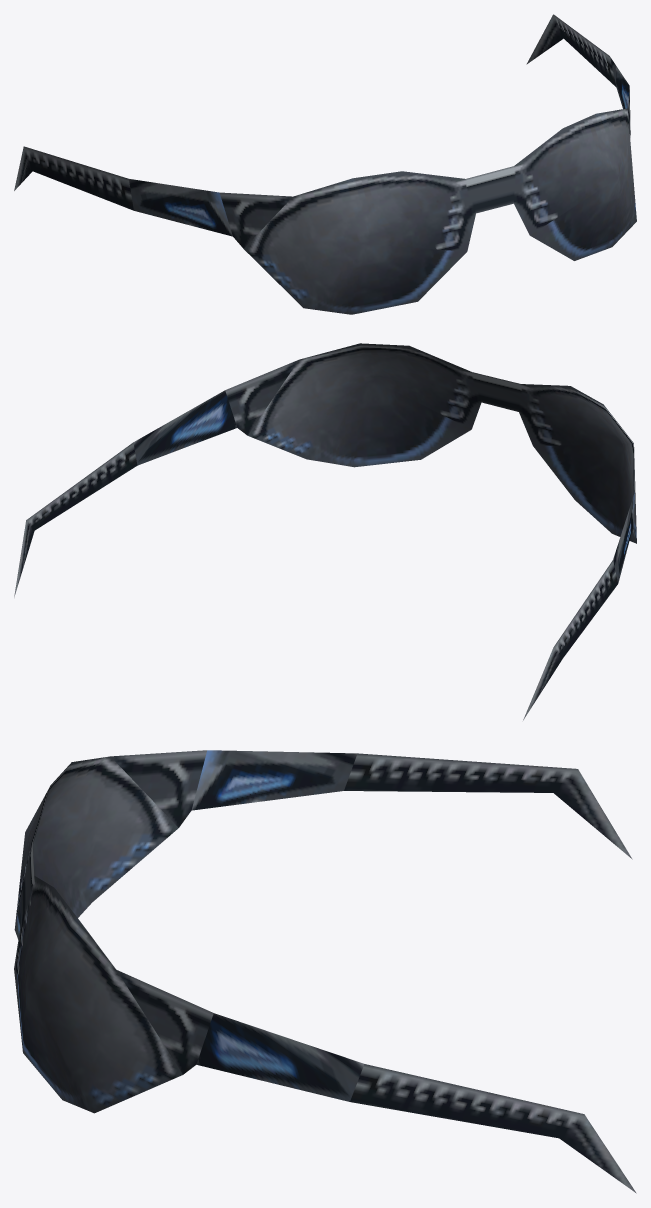
Rendered from Glasses1.glb.
The picture shows the model from 3 angles, top to bottom: view 1: azimuth 30°, elevation 25°; view 2: azimuth 150°, elevation 25°; view 3: azimuth 270°, elevation 25°; orthographic projection. The views are drawn at different scales.
Parts seen in each view (by area): view 1: Glasses1; view 2: Glasses1; view 3: Glasses1.
Part boxes in pixels (x1,y1,x2,y2): Glasses1: [14, 14, 636, 314]; Glasses1: [14, 343, 636, 720]; Glasses1: [14, 750, 636, 1193].
Bounding box in the file's own units: 9.49 × 2.4 × 7.21.
Materials: 1 (1 with a texture image).
